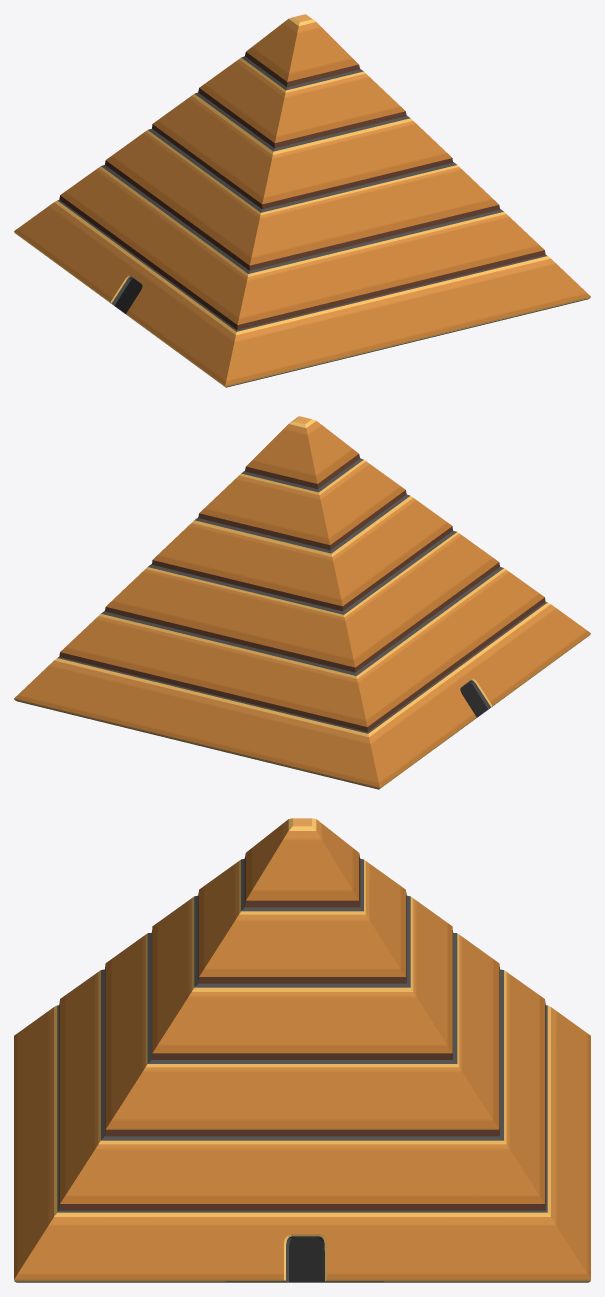
The model's file is egypt_env_pyramid_02.gltf.
3 renders of one model, top to bottom at view 1: azimuth 30°, elevation 25°; view 2: azimuth 150°, elevation 25°; view 3: azimuth 270°, elevation 25°, orthographic. The views are drawn at different scales.
Visible parts, largest first — view 1: egypt_env_pyramid_02_glb; view 2: egypt_env_pyramid_02_glb; view 3: egypt_env_pyramid_02_glb.
Boxes of the visible parts, <box> form: egypt_env_pyramid_02_glb: <box>14,14,590,387</box>; egypt_env_pyramid_02_glb: <box>14,416,590,789</box>; egypt_env_pyramid_02_glb: <box>14,818,590,1282</box>.
Size of what is drawn, in the model's own units: 10.85 by 7.05 by 10.85.
Materials: 1 (1 with a texture image).
